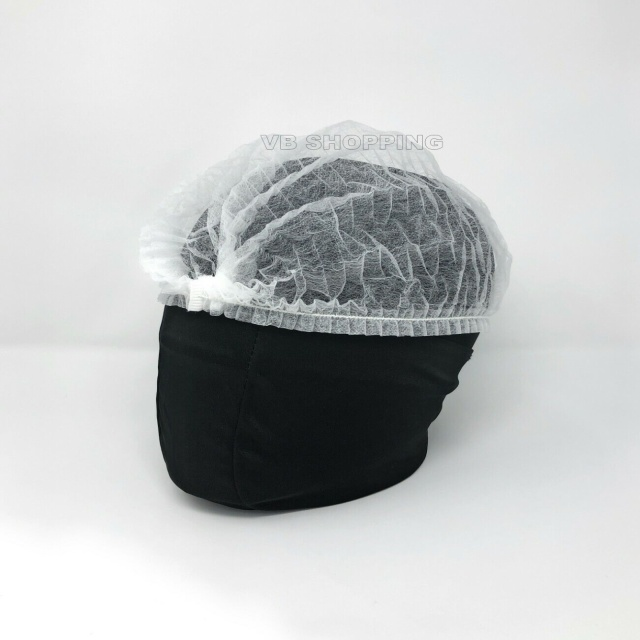Hairnet: (196, 146, 507, 311)
